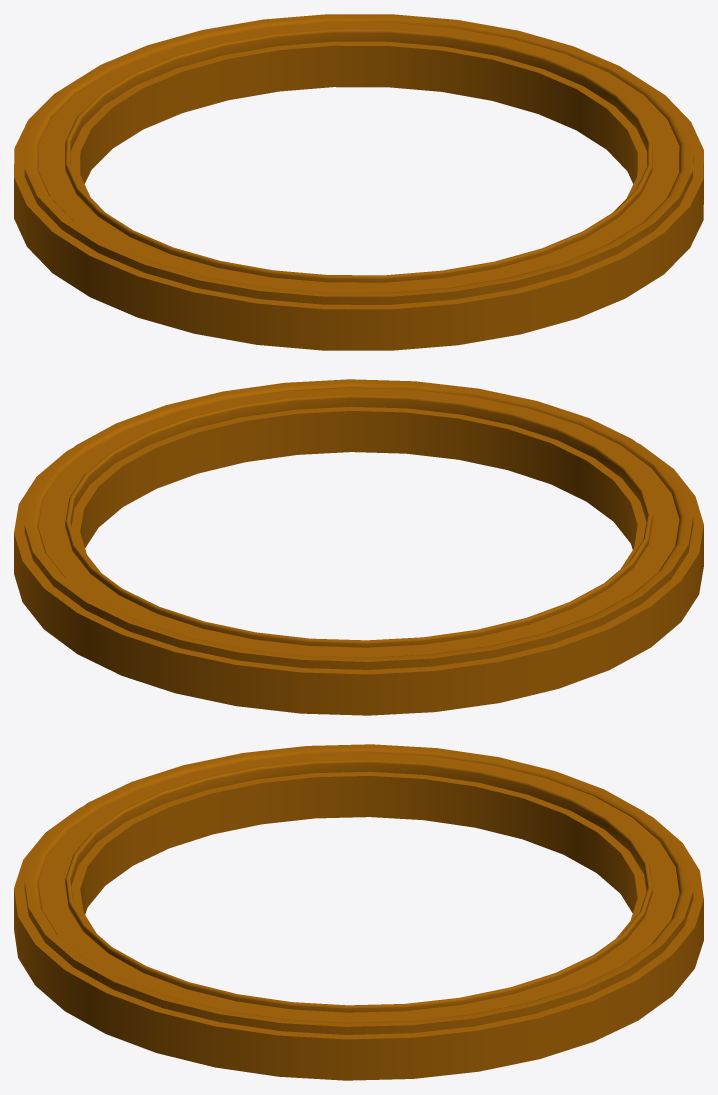
File: Compass5.glb
3 renders of one model, top to bottom at view 1: azimuth 30°, elevation 25°; view 2: azimuth 150°, elevation 25°; view 3: azimuth 270°, elevation 25°, orthographic.
Visible parts, largest first — view 1: Cylinder.005; view 2: Cylinder.005; view 3: Cylinder.005.
Boxes of the visible parts, bbox=[...] form: Cylinder.005: bbox=[14, 14, 703, 350]; Cylinder.005: bbox=[14, 379, 703, 715]; Cylinder.005: bbox=[14, 744, 703, 1080].
Size of the model in its own units: 2.47 by 0.2065 by 2.47.
